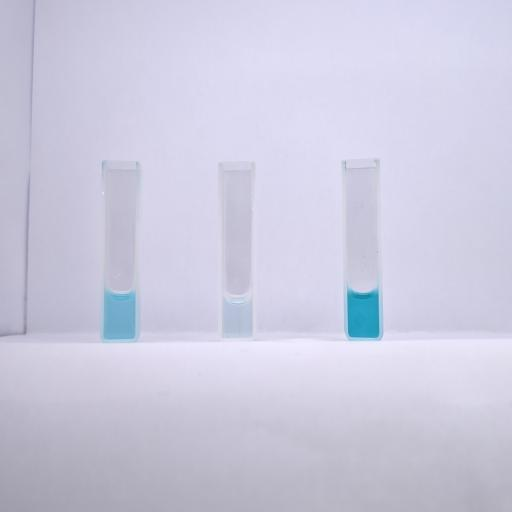cuvette: (340, 156, 385, 342), (98, 158, 142, 344), (217, 160, 258, 342)
liquid: (105, 291, 135, 339), (348, 292, 380, 337), (223, 294, 252, 338)
